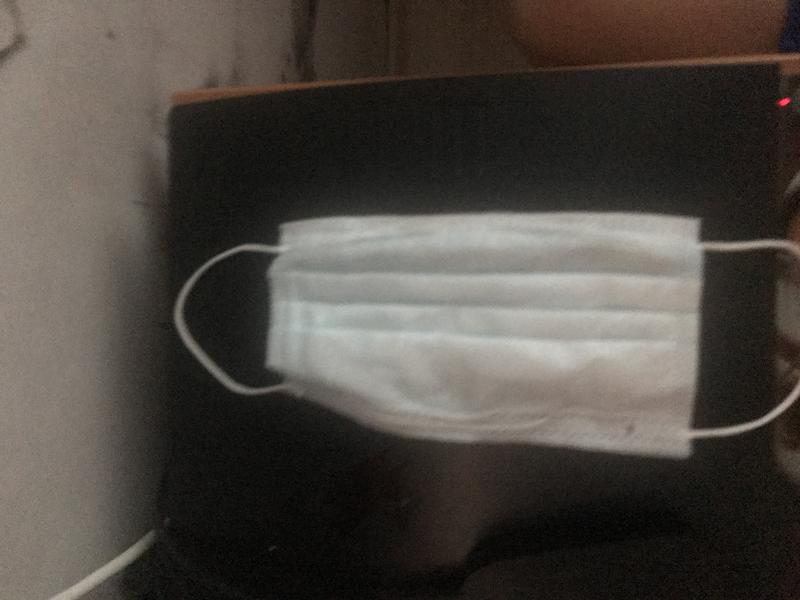medical_mask: (172, 215, 800, 460)
